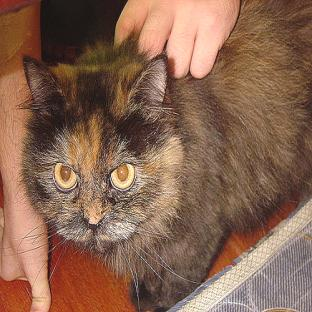Animal: (22, 0, 312, 310)
